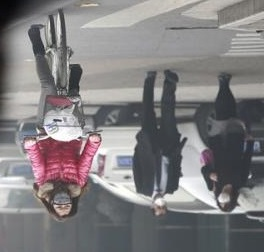person: (21, 24, 103, 221), (133, 69, 185, 219), (203, 72, 252, 212)
